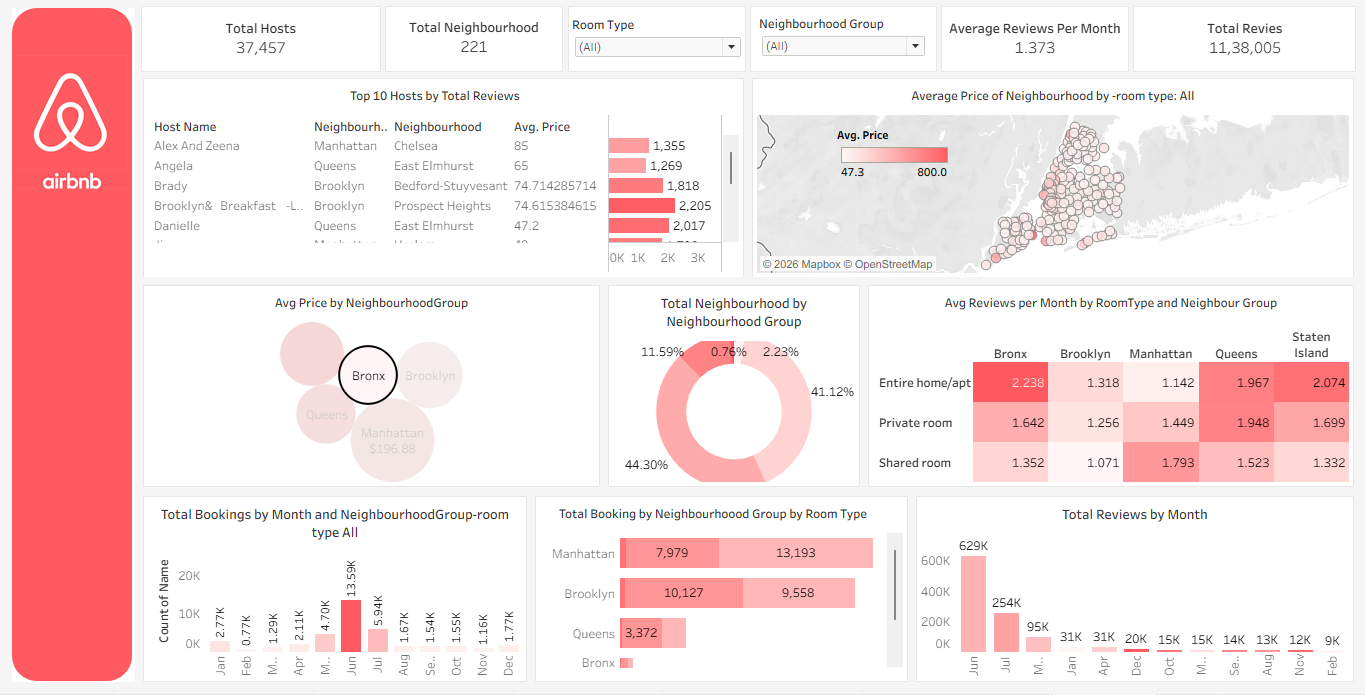

The page's visual inventory and layout, read from the dashboard file:
{"tool":"tableau","page":{"name":"Dashboard 1","canvas":[1000,1000],"units":"permille","ordinal":0},"visuals":[{"type":"worksheet","title":"Total Hosts","mark":"Automatic","box":[4.8,10,172.4,79.6]},{"type":"worksheet","title":"Total Neighbourhood","mark":"Automatic","box":[177.2,10,164.3,79.6]},{"type":"filter","title":"Total Booking by Neighbourhoood Group by Room Type","param":"[federated.0ym4jc71xgnuw412a508a110d919].[none:room_type:nk]","box":[341.6,10,158.1,79.6]},{"type":"filter","title":"Total Neighbourhood by Neighbourhood Group","param":"[federated.0ym4jc71xgnuw412a508a110d919].[none:neighbourhood_group:nk]","box":[499.7,10,150.3,79.6]},{"type":"worksheet","title":"Avg Reviews Per Month","mark":"Automatic","box":[650,10,181.1,79.6]},{"type":"worksheet","title":"Total Reviews","mark":"Automatic","box":[831,10,164.2,79.6]},{"type":"worksheet","title":"Total Reviews by Month","mark":"Bar","rows":["number_of_reviews"],"cols":["last_review"],"box":[4.8,89.5,510.8,291.1]},{"type":"worksheet","title":"Avg Price by NeighbourhoodGroup","mark":"Circle","box":[515.6,89.5,479.6,290.9]},{"type":"worksheet","title":"Avg Reviews per Month by RoomType and Neighbour Group","mark":"Square","rows":["room_type"],"cols":["neighbourhood_group"],"box":[515.6,380.4,479.6,312.9]},{"type":"worksheet","title":"Total Neighbourhood by Neighbourhood Group","mark":"Pie","rows":["Calculation_0199318464290817","Calculation_0199318464290817"],"box":[4.8,380.7,510.8,312.1]},{"type":"worksheet","title":"Total Booking by Neighbourhoood Group by Room Type","mark":"Automatic","rows":["neighbourhood_group"],"cols":["name"],"box":[4.8,692.8,510.8,297.2]},{"type":"worksheet","title":"Total Bookings by Month and NeighbourhoodGroup","mark":"Bar","rows":["name"],"cols":["last_review"],"box":[515.6,693.4,479.6,296.6]}]}

Visuals, with their boxes on the dashboard's canvas, which has no fixed pixel size, in thousandths of its width and height (x1, y1, x2, y2). These are canvas units, not pixel positions in the 1365x695 screenshot, which may show the page scaled, cropped or inside an application window:
"Total Hosts" worksheet: box=[5, 10, 177, 90]
"Total Neighbourhood" worksheet: box=[177, 10, 342, 90]
"Total Booking by Neighbourhoood Group by Room Type" filter: box=[342, 10, 500, 90]
"Total Neighbourhood by Neighbourhood Group" filter: box=[500, 10, 650, 90]
"Avg Reviews Per Month" worksheet: box=[650, 10, 831, 90]
"Total Reviews" worksheet: box=[831, 10, 995, 90]
"Total Reviews by Month" worksheet (Bar marks): box=[5, 90, 516, 381]
"Avg Price by NeighbourhoodGroup" worksheet (Circle marks): box=[516, 90, 995, 380]
"Avg Reviews per Month by RoomType and Neighbour Group" worksheet (Square marks): box=[516, 380, 995, 693]
"Total Neighbourhood by Neighbourhood Group" worksheet (Pie marks): box=[5, 381, 516, 693]
"Total Booking by Neighbourhoood Group by Room Type" worksheet: box=[5, 693, 516, 990]
"Total Bookings by Month and NeighbourhoodGroup" worksheet (Bar marks): box=[516, 693, 995, 990]
